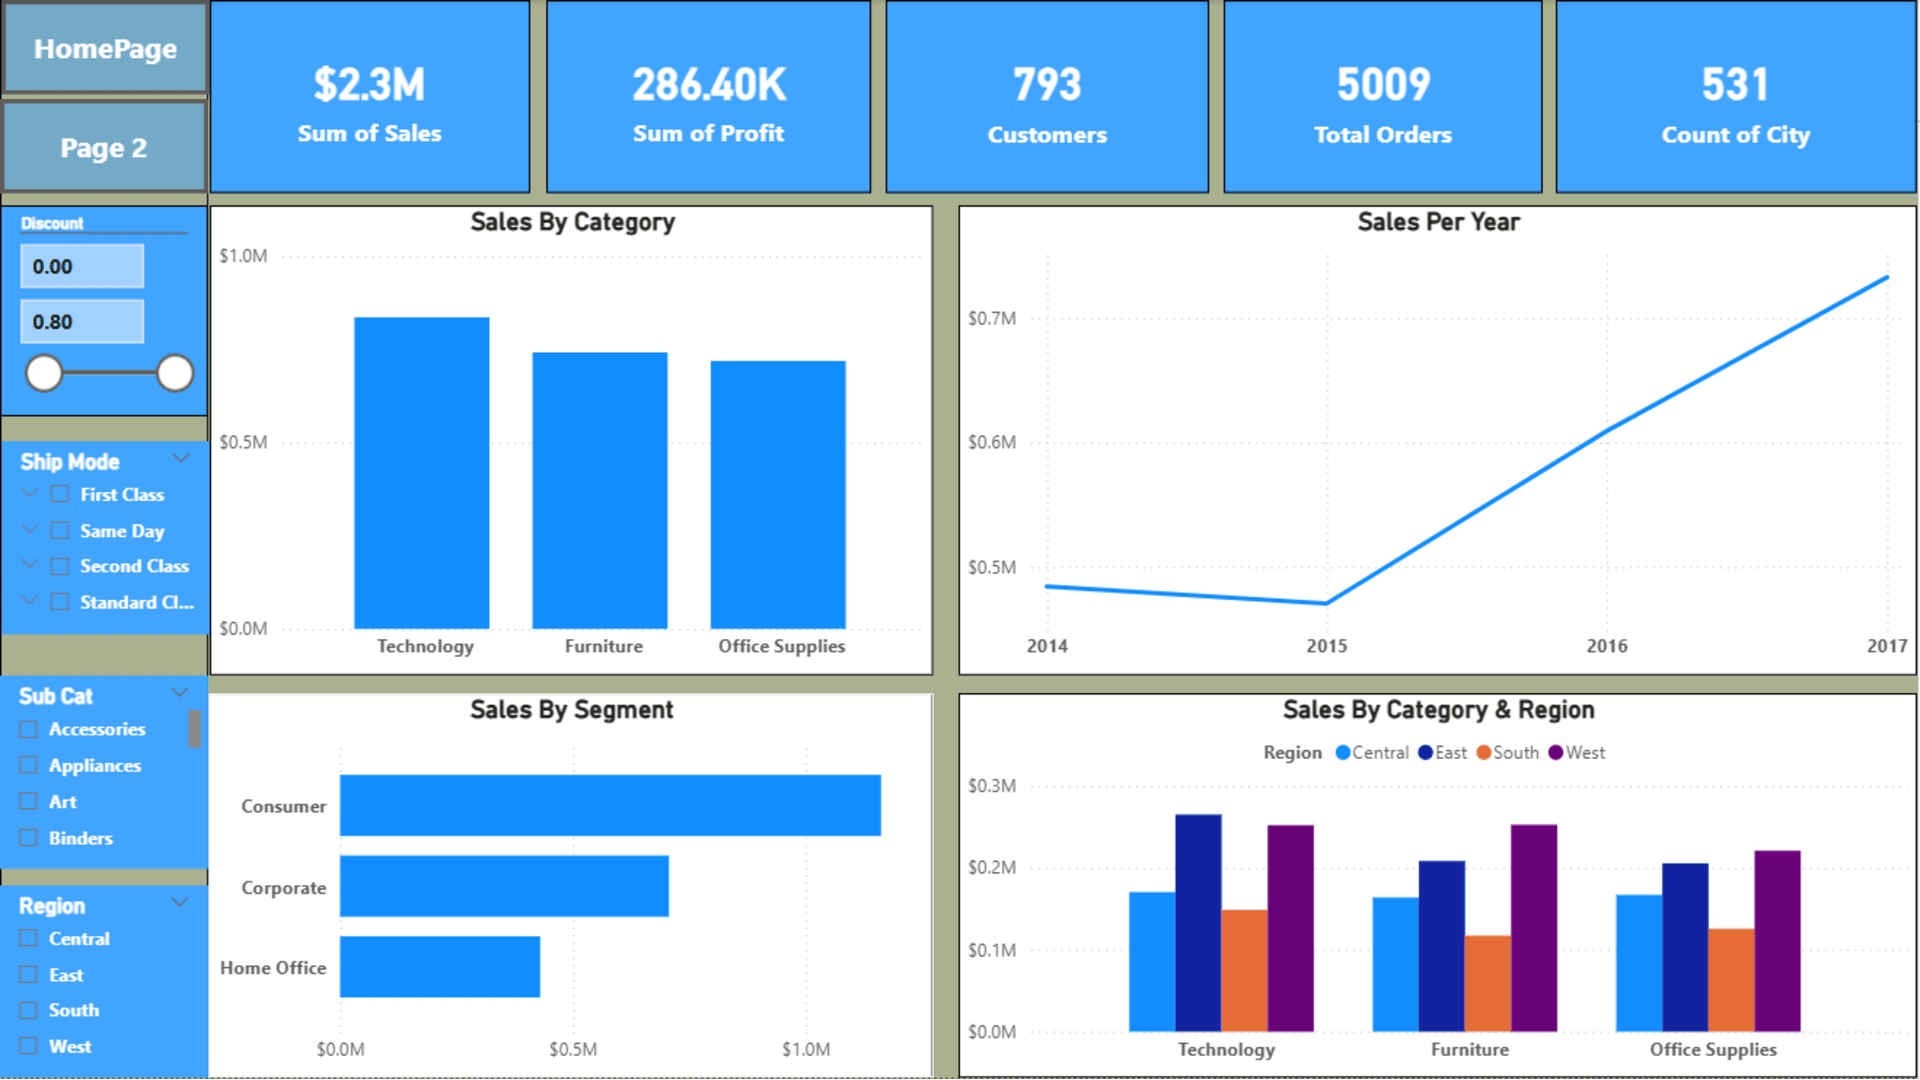

The dashboard page shown, as its layout file describes it:
{"tool":"powerbi","page":{"name":"OverView","canvas":[1280,720],"ordinal":1},"visuals":[{"type":"card","fields":{"Values":["Sum(Orders.Sales)"]},"box":[140.1,0,213.7,128.6],"z":0},{"type":"card","fields":{"Values":["Sum(Orders.Profit)"]},"box":[364.4,0,217.2,128.6],"z":1000},{"type":"card","fields":{"Values":["Orders.Total Orders"]},"box":[817,0,213,129],"z":2000},{"type":"card","fields":{"Values":["Count(Orders.City)"]},"box":[1039,0,241,129],"z":3000},{"type":"card","fields":{"Values":["Orders.Customers"]},"box":[591,0,216,129],"z":4000},{"type":"columnChart","title":"Sales By Category","fields":{"Category":["Orders.Category"],"Y":["Sum(Orders.Sales)"]},"box":[140.1,137.4,483.3,313.9],"z":5000},{"type":"lineChart","title":"Sales Per Year","fields":{"Y":["Sum(Orders.Sales)"],"Category":["Orders.Order Date.Variation.Date Hierarchy.Year"]},"box":[640,137,640,314],"z":6000},{"type":"clusteredBarChart","title":"Sales By Segment","fields":{"Category":["Orders.Segment"],"Y":["Sum(Orders.Sales)"]},"box":[139.2,462.9,484.1,257.1],"z":7000},{"type":"clusteredColumnChart","title":"Sales By Category & Region","fields":{"Category":["Orders.Category"],"Series":["Orders.Region"],"Y":["Sum(Orders.Sales)"]},"box":[640.2,462.9,640.2,257.1],"z":8000},{"type":"shape","box":[0,0,139.2,720],"z":9000},{"type":"actionButton","box":[0,66.1,139.1,63.2],"z":10000},{"type":"slicer","fields":{"Values":["Orders.Discount"]},"box":[0,137.1,139.1,141],"z":11000},{"type":"slicer","fields":{"Values":["Orders.Ship Mode","Orders.Days to Delivery"]},"box":[1,294.7,139.1,129.4],"z":12000},{"type":"slicer","fields":{"Values":["Orders.Sub-Category"]},"box":[0,451.3,139.1,129.4],"z":13000},{"type":"slicer","fields":{"Values":["Orders.Region"]},"box":[0,591,139,129],"z":14000},{"type":"actionButton","box":[1,0,139.1,63.2],"z":14001}]}

Visuals, with their boxes in screenshot pixels (x1, y1, x2, y2), scaled from the page's 1280x720 canvas onto the 1920x1080 screenshot:
card - Sum(Orders.Sales): l=210, t=0, r=531, b=193
card - Sum(Orders.Profit): l=547, t=0, r=872, b=193
card - Orders.Total Orders: l=1226, t=0, r=1545, b=194
card - Count(Orders.City): l=1558, t=0, r=1919, b=194
card - Orders.Customers: l=886, t=0, r=1210, b=194
"Sales By Category" columnChart: l=210, t=206, r=935, b=677
"Sales Per Year" lineChart: l=960, t=206, r=1919, b=676
"Sales By Segment" clusteredBarChart: l=209, t=694, r=935, b=1079
"Sales By Category & Region" clusteredColumnChart: l=960, t=694, r=1919, b=1079
shape: l=0, t=0, r=209, b=1079
actionButton: l=0, t=99, r=209, b=194
slicer - Orders.Discount: l=0, t=206, r=209, b=417
slicer - Orders.Ship Mode x Orders.Days to Delivery: l=2, t=442, r=210, b=636
slicer - Orders.Sub-Category: l=0, t=677, r=209, b=871
slicer - Orders.Region: l=0, t=886, r=208, b=1079
actionButton: l=2, t=0, r=210, b=95
